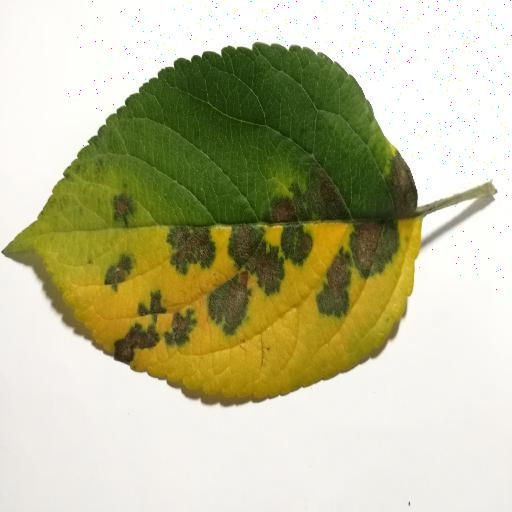Brown_Spot: (99, 181, 429, 349)
